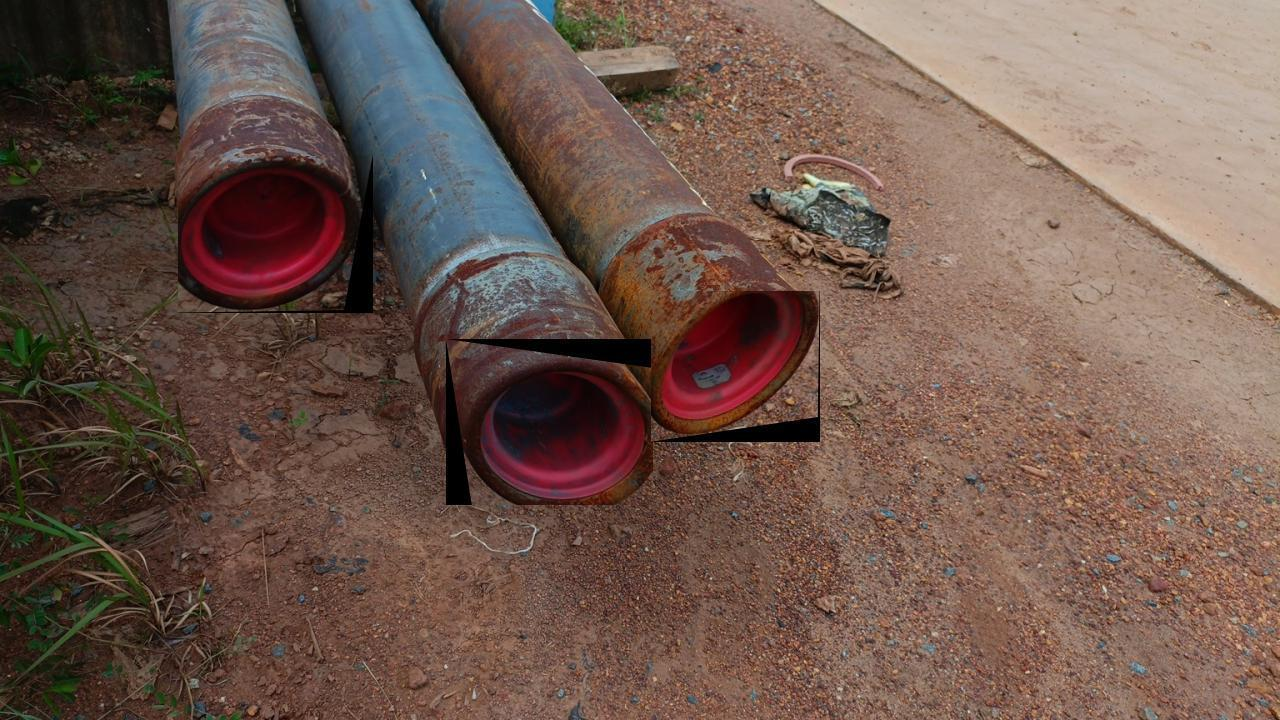pipe: (446, 339, 653, 505), (178, 156, 373, 313), (651, 291, 820, 442)
